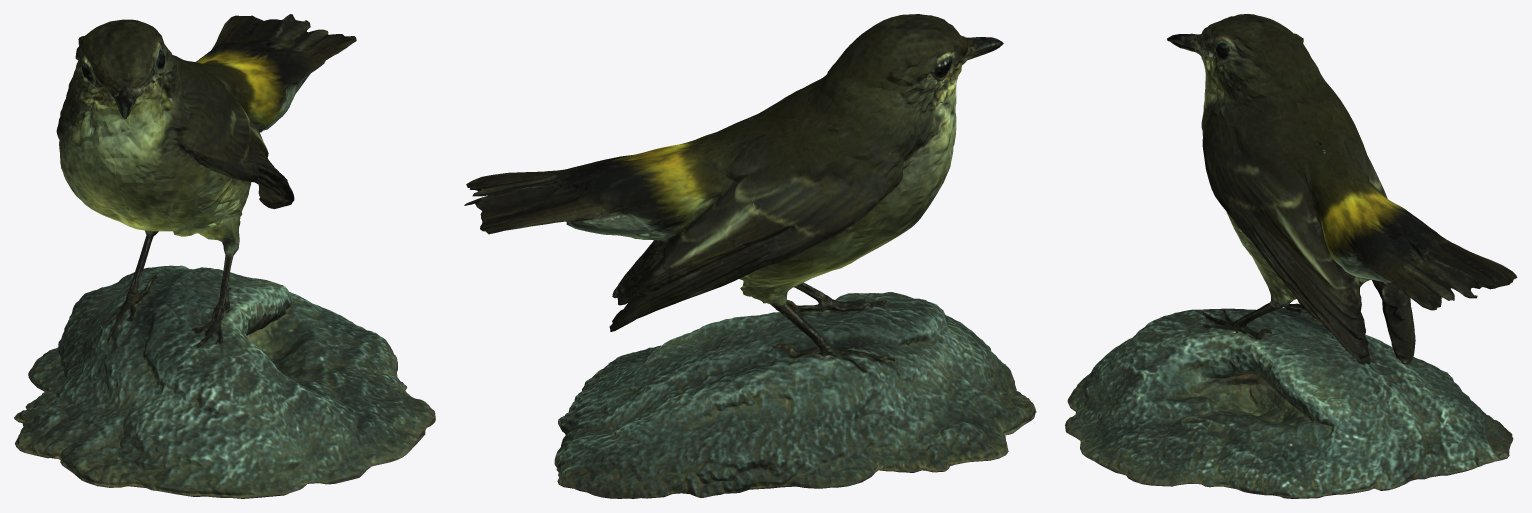
File: Narcissus_flycatcher.glb
The picture shows the model from 3 angles, left to right: view 1: azimuth 30°, elevation 25°; view 2: azimuth 150°, elevation 25°; view 3: azimuth 270°, elevation 25°; orthographic projection. The views are drawn at different scales.
Parts seen in each view (by area): view 1: Group19480; view 2: Group19480; view 3: Group19480.
Part boxes in pixels (x1=…): Group19480: x1=14, y1=14, x2=435, y2=498; Group19480: x1=464, y1=14, x2=1036, y2=498; Group19480: x1=1065, y1=14, x2=1517, y2=498.
Size of the model in its own units: 0.0982 by 0.0874 by 0.1005.
1 material, 1 textured.
